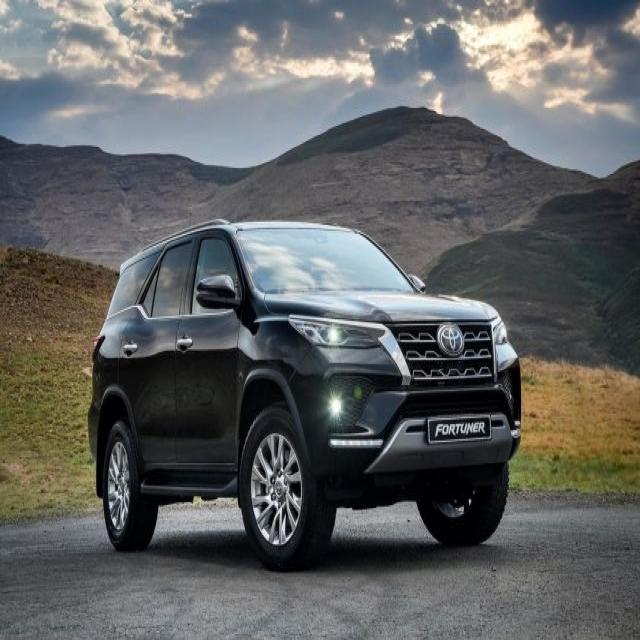light_vehicle: (88, 218, 522, 570)
